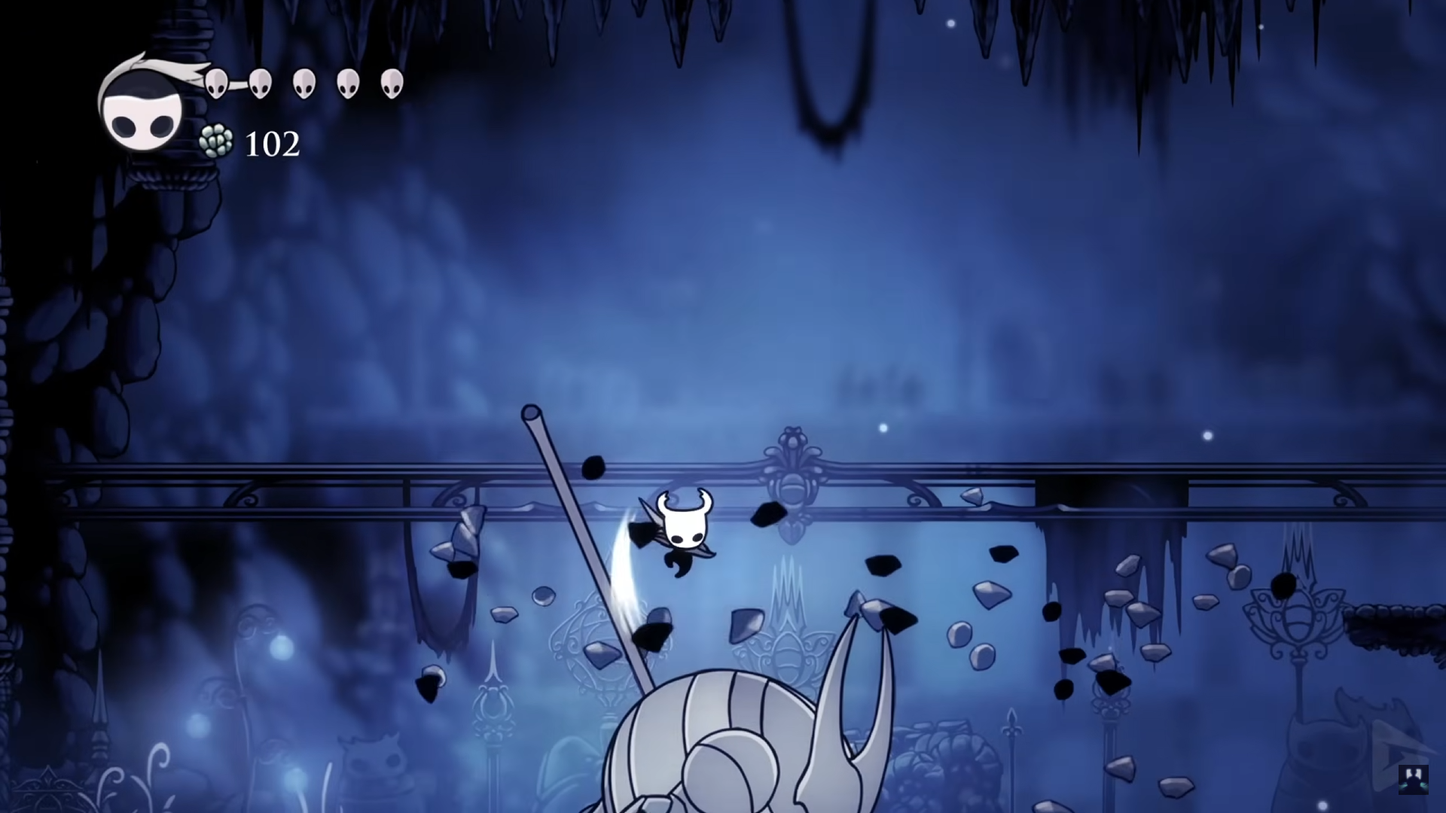HK: (646, 491, 713, 582)
